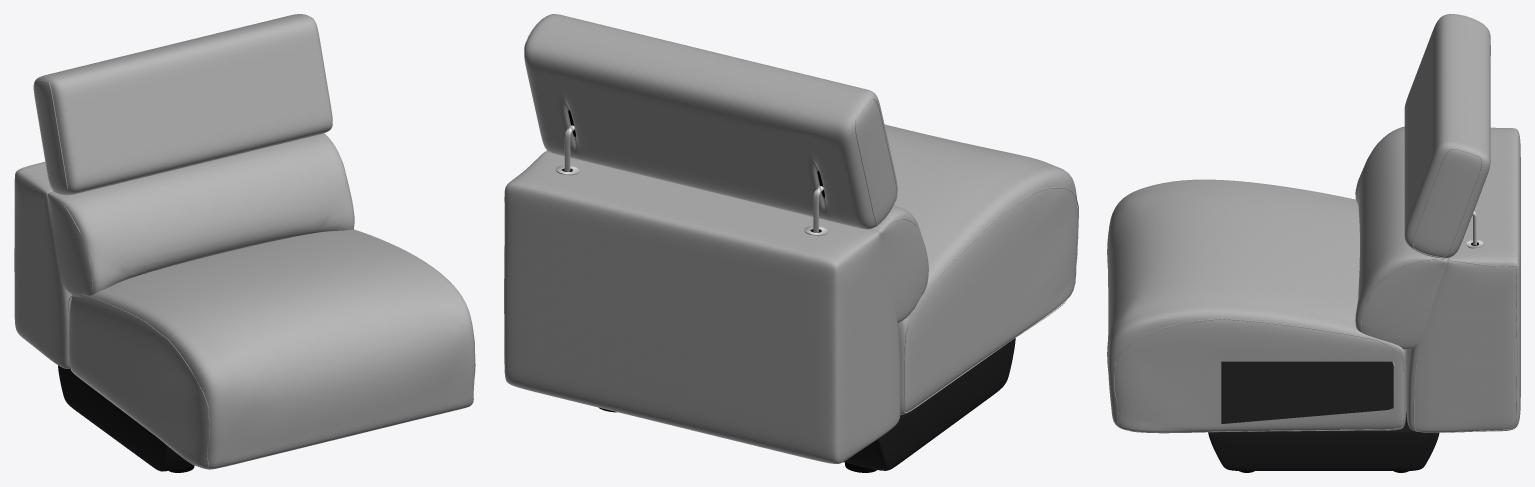
File: seat.glb
3 views of the same model, side by side, from view 1: azimuth 30°, elevation 25°; view 2: azimuth 150°, elevation 25°; view 3: azimuth 270°, elevation 25° (orthographic). The views are drawn at different scales.
Bounding box in the file's own units: 0.7885 × 0.8923 × 0.9922.
Materials: 5 (2 with a texture image).
